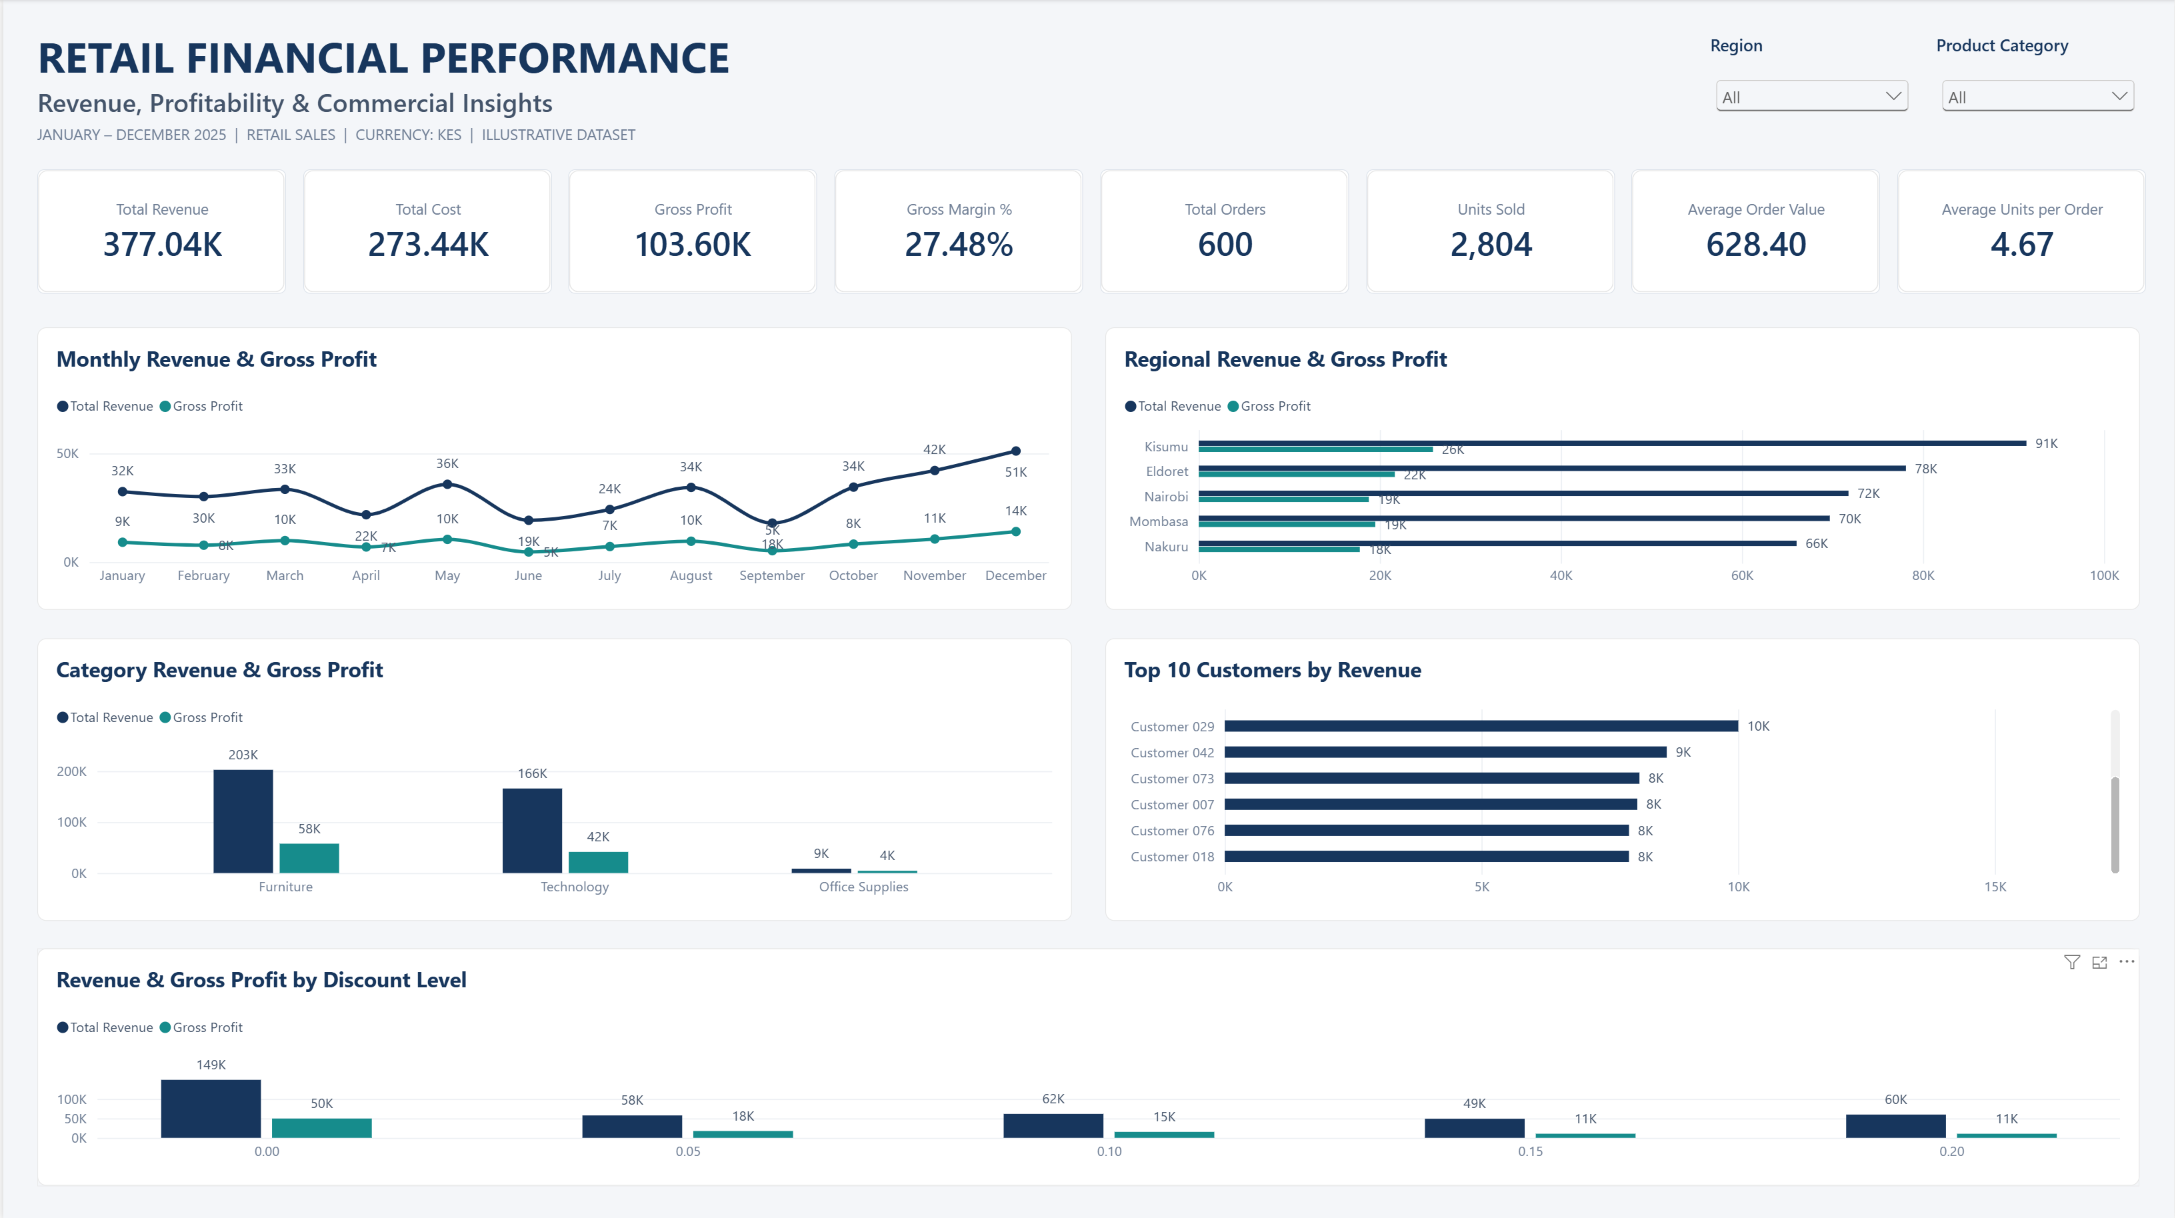

This screenshot's page, from the dashboard's own definition file:
{"tool":"powerbi","page":{"name":"Page 1","canvas":[1920,1080],"ordinal":0},"visuals":[{"type":"cardVisual","fields":{"Data":["Sales.Total Revenue"]},"box":[30,150,220,110],"z":0},{"type":"cardVisual","fields":{"Data":["Sales.Total Cost"]},"box":[265.1,150,220,110],"z":1000},{"type":"cardVisual","fields":{"Data":["Sales.Gross Profit"]},"box":[500,150.6,220,110],"z":2000},{"type":"cardVisual","fields":{"Data":["Sales.Gross Margin %"]},"box":[735.4,150,220,110],"z":3000},{"type":"cardVisual","fields":{"Data":["Sales.Total Orders"]},"box":[970.6,150,220,110],"z":4000},{"type":"cardVisual","fields":{"Data":["Sales.Units Sold"]},"box":[1205.7,150,220,110],"z":5000},{"type":"lineChart","title":"Monthly Revenue & Gross Profit","fields":{"Category":["Sales.OrderDate.Variation.Date Hierarchy.Year","Sales.OrderDate.Variation.Date Hierarchy.Month"],"Y":["Sales.Total Revenue","Sales.Gross Profit"]},"box":[30,290,915,250],"z":6000},{"type":"clusteredBarChart","title":"Regional Revenue & Gross Profit","fields":{"Category":["Sales.Region"],"Y":["Sales.Total Revenue","Sales.Gross Profit"]},"box":[975,290,915,250],"z":7000},{"type":"clusteredColumnChart","title":"Category Revenue & Gross Profit","fields":{"Category":["Sales.Category"],"Y":["Sales.Total Revenue","Sales.Gross Profit"]},"box":[30,565,915,250],"z":8000},{"type":"clusteredBarChart","title":"Top 10 Customers by Revenue","fields":{"Category":["Sales.Customer"],"Y":["Sales.Total Revenue"]},"box":[975,565,915,250],"z":9000},{"type":"clusteredColumnChart","title":"Revenue & Gross Profit by Discount Level","fields":{"Category":["Sales.DiscountPct"],"Y":["Sales.Total Revenue","Sales.Gross Profit"]},"box":[30,840,1860,210],"z":10000},{"type":"cardVisual","fields":{"Data":["Sales.Average Order Value"]},"box":[1440.8,150,220,110],"z":11000},{"type":"cardVisual","fields":{"Data":["Sales.Average Units per Order"]},"box":[1676,150,220,110],"z":12000},{"type":"textbox","title":"RETAIL FINANCIAL PERFORMANCE","box":[30,25,1200,45],"z":13000},{"type":"textbox","box":[30,75,1200,30],"z":14000},{"type":"textbox","box":[30,110,1500,22],"z":15000},{"type":"slicer","title":"Region","fields":{"Values":["Sales.Region"]},"box":[1510,30,180,70],"z":16000},{"type":"slicer","title":"Product Category","fields":{"Values":["Sales.Category"]},"box":[1710,30,180,70],"z":17000}]}

Visuals, with their boxes in screenshot pixels (x1, y1, x2, y2), scaled from the page's 1920x1080 canvas onto the 2175x1218 screenshot:
cardVisual - Sales.Total Revenue: 34, 169, 283, 293
cardVisual - Sales.Total Cost: 300, 169, 550, 293
cardVisual - Sales.Gross Profit: 566, 170, 816, 294
cardVisual - Sales.Gross Margin %: 833, 169, 1082, 293
cardVisual - Sales.Total Orders: 1100, 169, 1349, 293
cardVisual - Sales.Units Sold: 1366, 169, 1615, 293
"Monthly Revenue & Gross Profit" lineChart: 34, 327, 1071, 609
"Regional Revenue & Gross Profit" clusteredBarChart: 1104, 327, 2141, 609
"Category Revenue & Gross Profit" clusteredColumnChart: 34, 637, 1071, 919
"Top 10 Customers by Revenue" clusteredBarChart: 1104, 637, 2141, 919
"Revenue & Gross Profit by Discount Level" clusteredColumnChart: 34, 947, 2141, 1184
cardVisual - Sales.Average Order Value: 1632, 169, 1881, 293
cardVisual - Sales.Average Units per Order: 1899, 169, 2148, 293
"RETAIL FINANCIAL PERFORMANCE" textbox: 34, 28, 1393, 79
textbox: 34, 85, 1393, 118
textbox: 34, 124, 1733, 149
"Region" slicer: 1711, 34, 1914, 113
"Product Category" slicer: 1937, 34, 2141, 113
